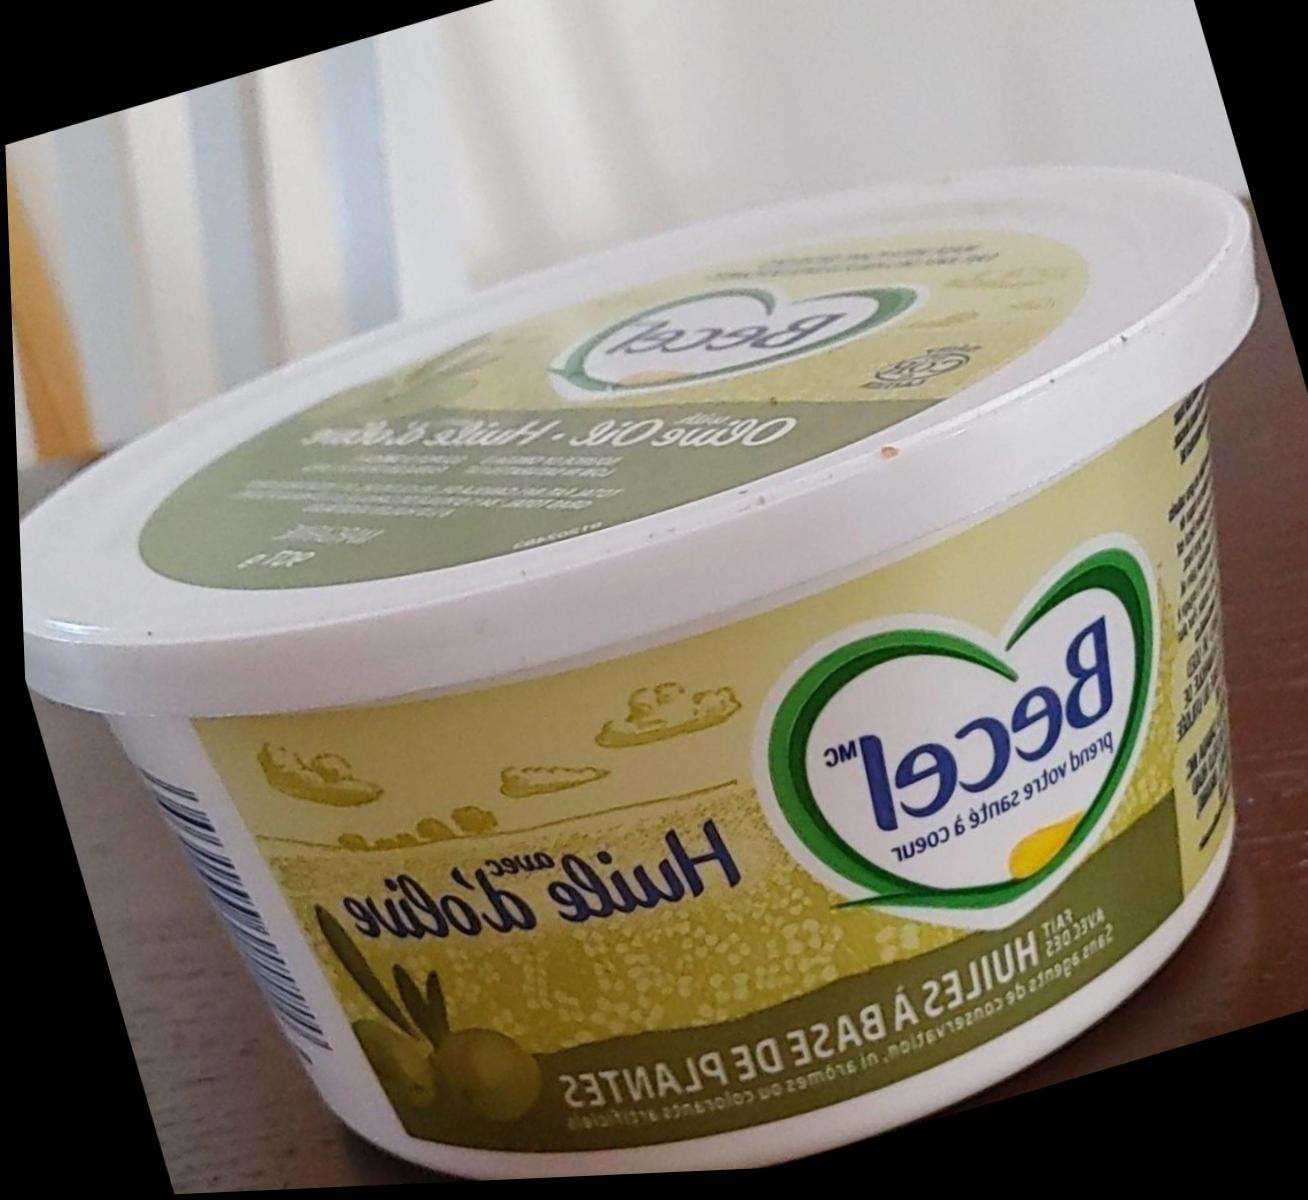plastic: (5, 60, 1308, 1200)
